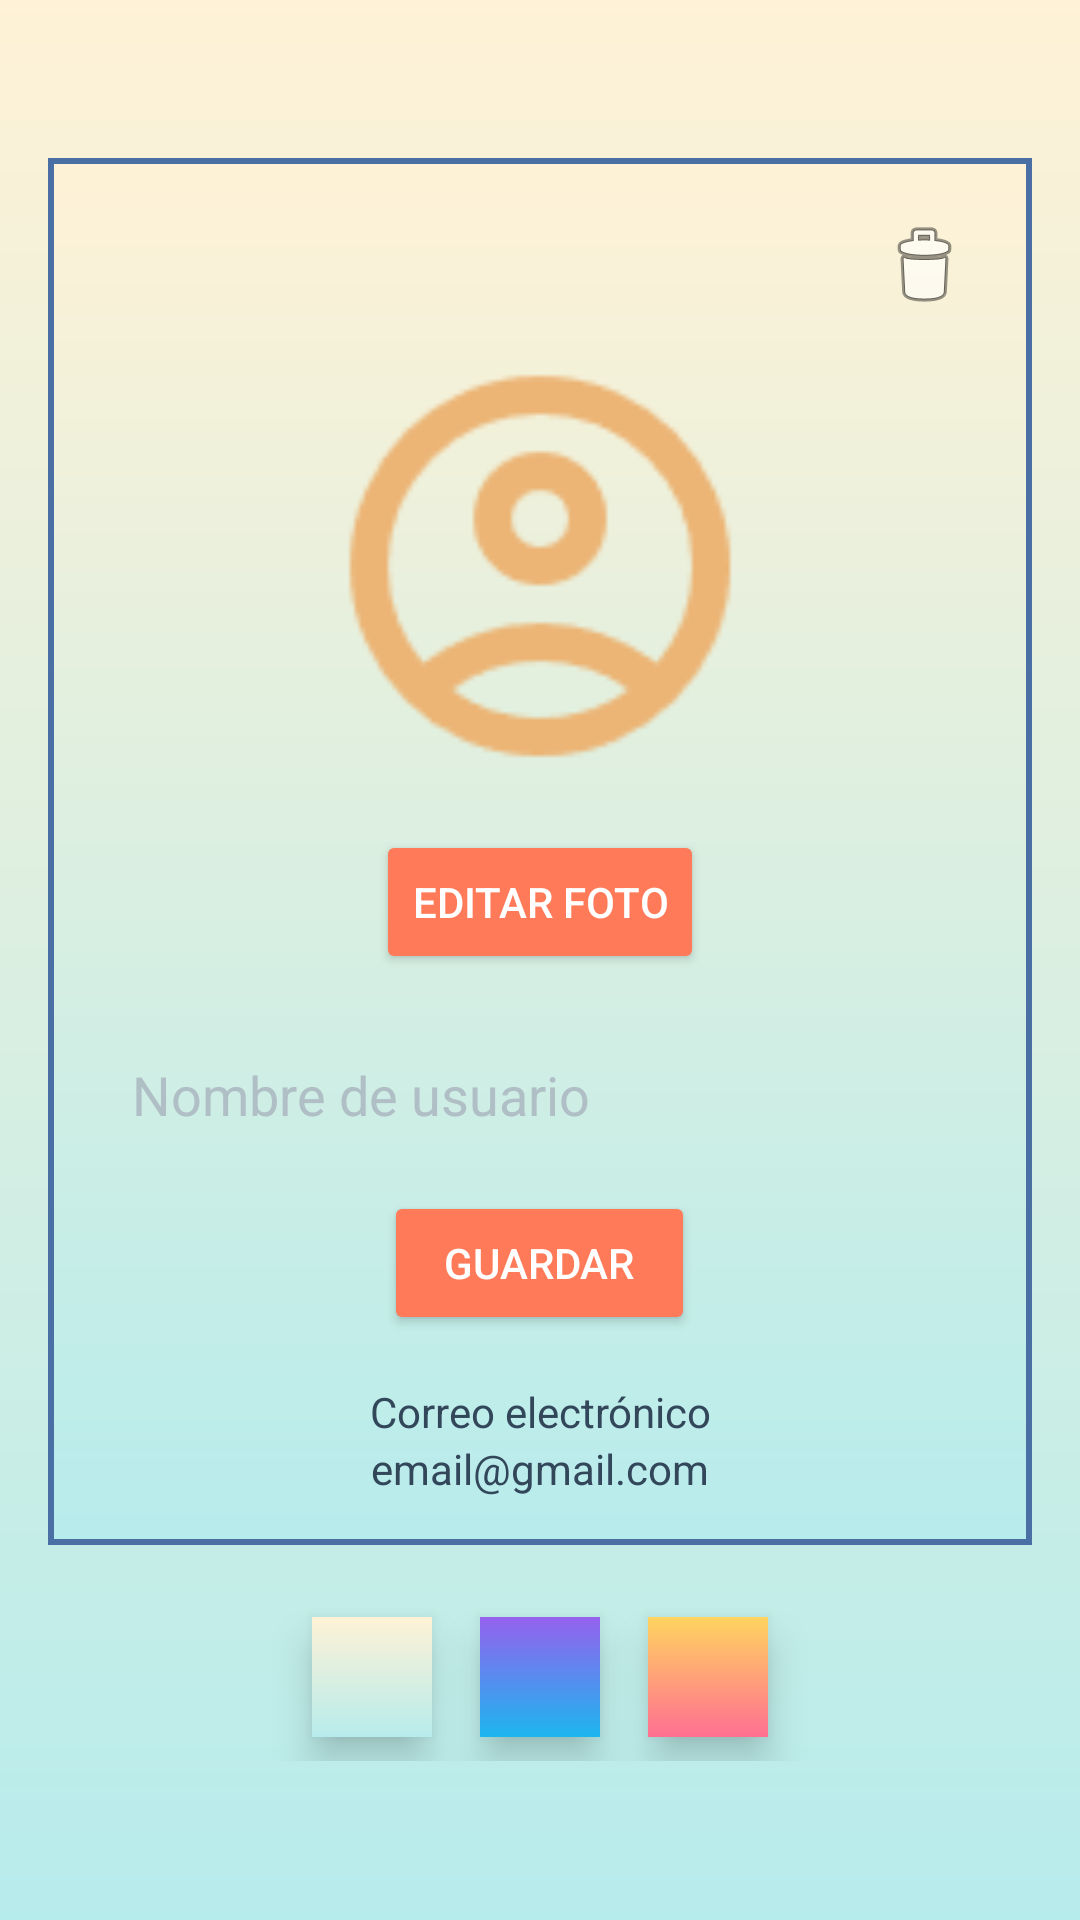

Named icons in this screenshot (1080 × 1920) and their centers, (x,y):
delete: (924,264)
